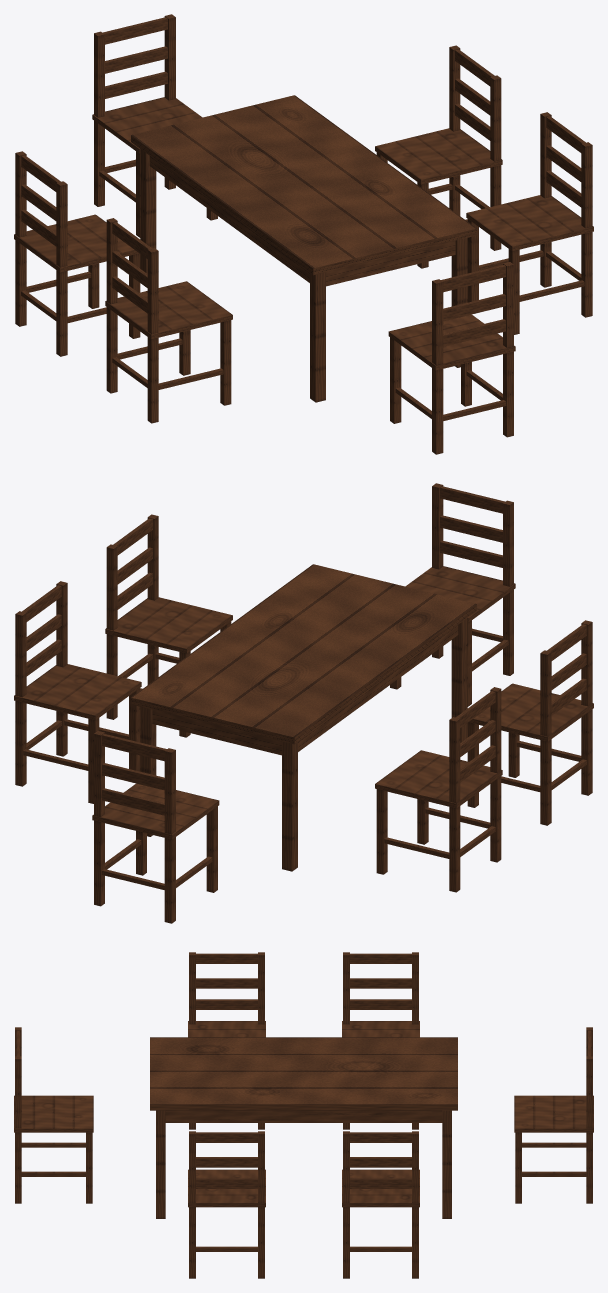
File: dining_normal.obj
The picture shows the model from 3 angles, top to bottom: view 1: azimuth 30°, elevation 25°; view 2: azimuth 150°, elevation 25°; view 3: azimuth 270°, elevation 25°; orthographic projection. The views are drawn at different scales.
Parts seen in each view (by area): view 1: material_5; view 2: material_5; view 3: material_5.
Boxes of the visible parts, x1,y1,x2,y2 form: material_5: (14, 14, 593, 454); material_5: (14, 483, 593, 923); material_5: (14, 952, 593, 1278).
Bounding box in the file's own units: 76.34 × 28.16 × 103.
2 materials, 2 textured.
